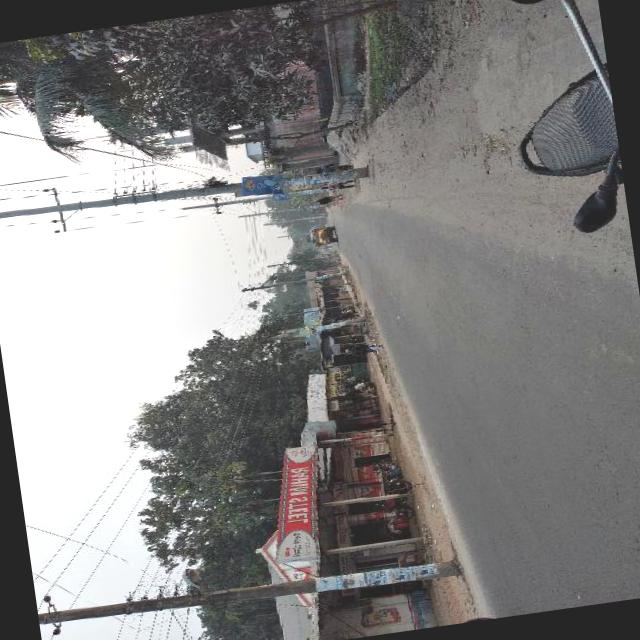motorcycle: (391, 0, 629, 254), (379, 474, 415, 522), (348, 331, 367, 359), (320, 248, 328, 252)
truck: (304, 224, 336, 246)
